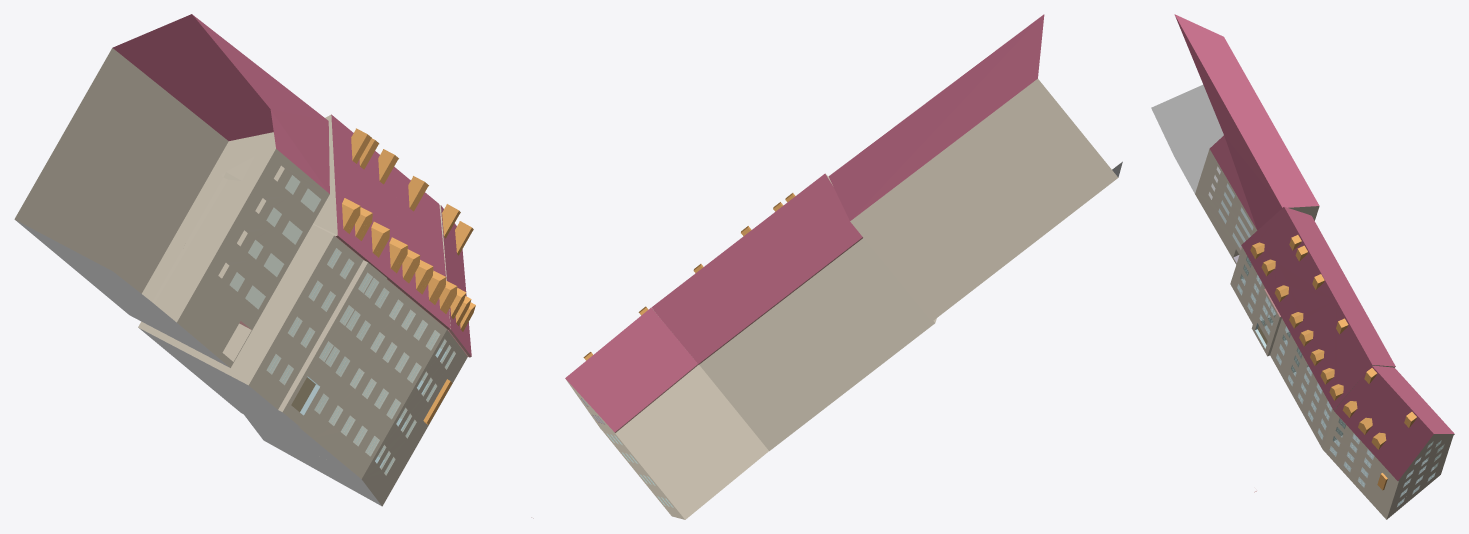
The picture shows the model from 3 angles, left to right: view 1: azimuth 30°, elevation 25°; view 2: azimuth 150°, elevation 25°; view 3: azimuth 270°, elevation 25°; orthographic projection. The views are drawn at different scales.
Parts seen in each view (by area): view 1: mesh; view 2: mesh; view 3: mesh.
Boxes of the visible parts, x1,y1,x2,y2 form: mesh: (14,14,533,518); mesh: (565,14,1122,519); mesh: (1151,14,1454,519).
Size of the model in its own units: 54.65 by 58.41 by 39.96.
